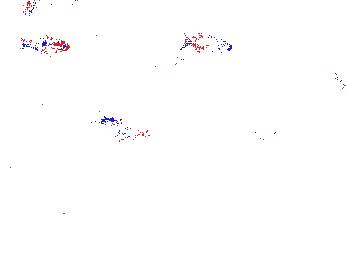X-ray fish: (44, 213, 84, 234)
glassfish: (1, 89, 105, 161)
red belly glassfish: (20, 36, 71, 53), (255, 126, 278, 143), (333, 67, 346, 89)
redtail glassfish: (123, 41, 193, 73), (95, 113, 147, 140), (180, 32, 233, 54)
